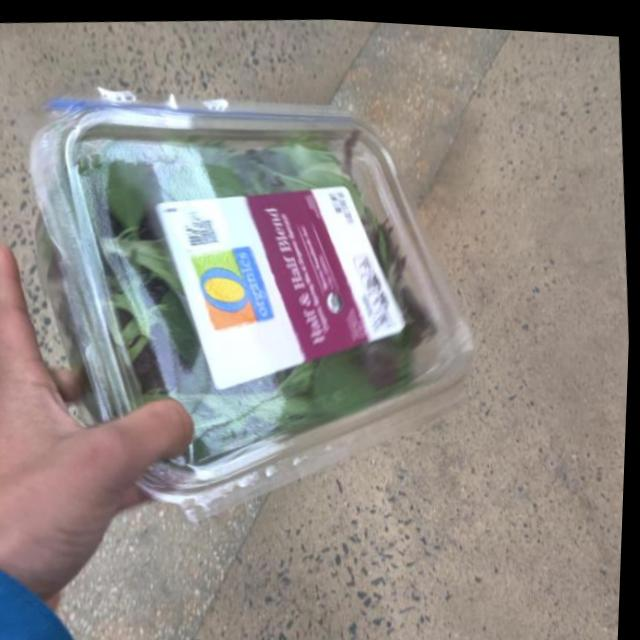Salad: (0, 36, 504, 532)
